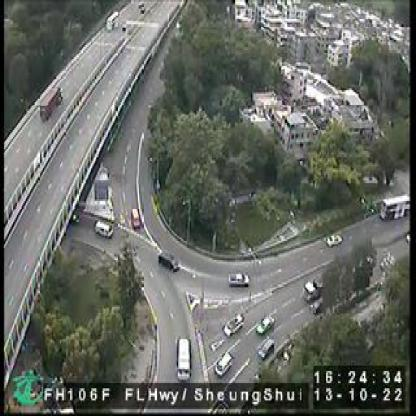Car: (222, 312, 246, 338), (213, 349, 233, 378), (158, 251, 182, 272), (257, 336, 275, 362), (255, 314, 276, 336), (230, 269, 250, 287), (95, 221, 115, 237), (325, 233, 342, 248), (106, 12, 118, 32), (210, 336, 224, 352)
Truck: (37, 84, 64, 122), (379, 193, 411, 221)
